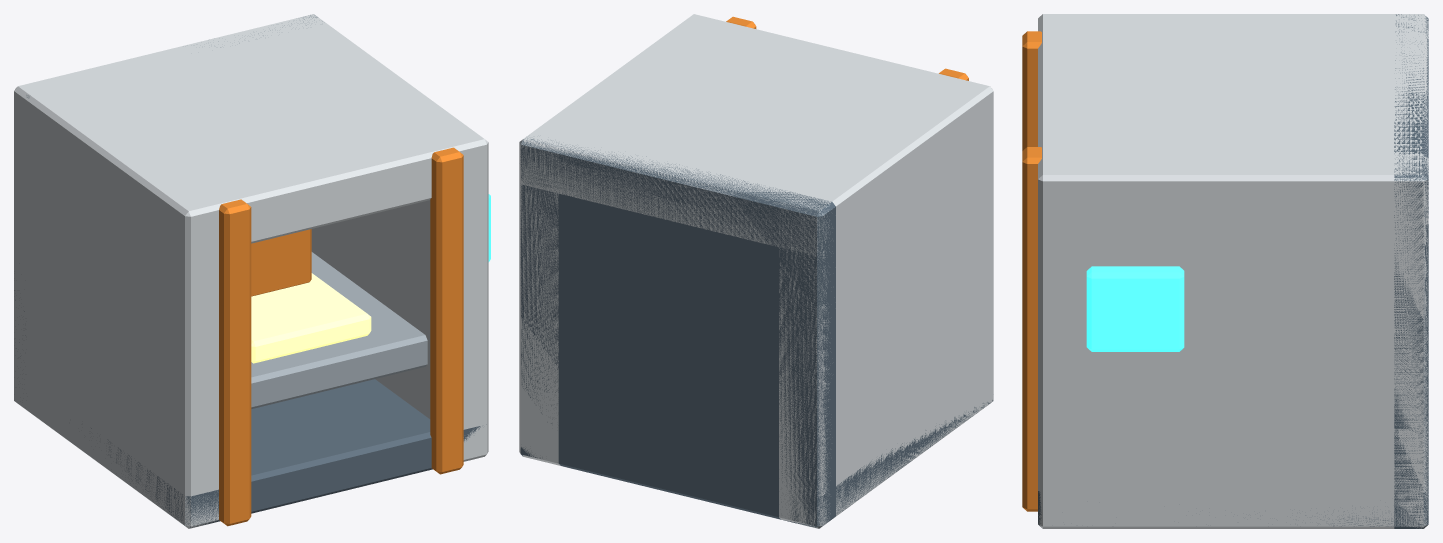
Rendered from machine-wire-mill.fbx.
The picture shows the model from 3 angles, left to right: view 1: azimuth 30°, elevation 25°; view 2: azimuth 150°, elevation 25°; view 3: azimuth 270°, elevation 25°; orthographic projection. The views are drawn at different scales.
Parts seen in each view (by area): view 1: machine-wire-mill_Machine column.002, machine-wire-mill_Crown.001, machine-wire-mill_Machine column.003, machine-wire-mill_Skid.001, machine-wire-mill_Orange spine.003, machine-wire-mill_Orange spine.002, machine-wire-mill_Working bed.001, machine-wire-mill_Workpiece.001, machine-wire-mill_Actuator.001; view 2: machine-wire-mill_Backplane.001, machine-wire-mill_Crown.001, machine-wire-mill_Machine column.002, machine-wire-mill_Machine column.003, machine-wire-mill_Skid.001; view 3: machine-wire-mill_Machine column.003, machine-wire-mill_Crown.001, machine-wire-mill_Backplane.001, machine-wire-mill_Operator display.001, machine-wire-mill_Orange spine.003, machine-wire-mill_Orange spine.002.
Boxes of the visible parts, box(x1,y1,x2,y2) form: machine-wire-mill_Machine column.002: box(14, 89, 226, 528); machine-wire-mill_Crown.001: box(15, 14, 488, 256); machine-wire-mill_Machine column.003: box(301, 17, 488, 461); machine-wire-mill_Skid.001: box(91, 379, 486, 527); machine-wire-mill_Orange spine.003: box(430, 147, 463, 474); machine-wire-mill_Orange spine.002: box(219, 199, 251, 526); machine-wire-mill_Working bed.001: box(251, 252, 427, 408); machine-wire-mill_Workpiece.001: box(251, 273, 371, 363); machine-wire-mill_Actuator.001: box(251, 229, 311, 296); machine-wire-mill_Backplane.001: box(520, 138, 835, 527); machine-wire-mill_Crown.001: box(519, 14, 993, 255); machine-wire-mill_Machine column.002: box(779, 90, 993, 528); machine-wire-mill_Machine column.003: box(519, 142, 567, 465); machine-wire-mill_Skid.001: box(520, 400, 992, 527); machine-wire-mill_Machine column.003: box(1038, 154, 1428, 528); machine-wire-mill_Crown.001: box(1038, 14, 1428, 225); machine-wire-mill_Backplane.001: box(1394, 14, 1428, 528); machine-wire-mill_Operator display.001: box(1086, 266, 1184, 351); machine-wire-mill_Orange spine.003: box(1022, 147, 1041, 511); machine-wire-mill_Orange spine.002: box(1022, 31, 1041, 150).
Bounding box in the file's own units: 216 × 200 × 208.
